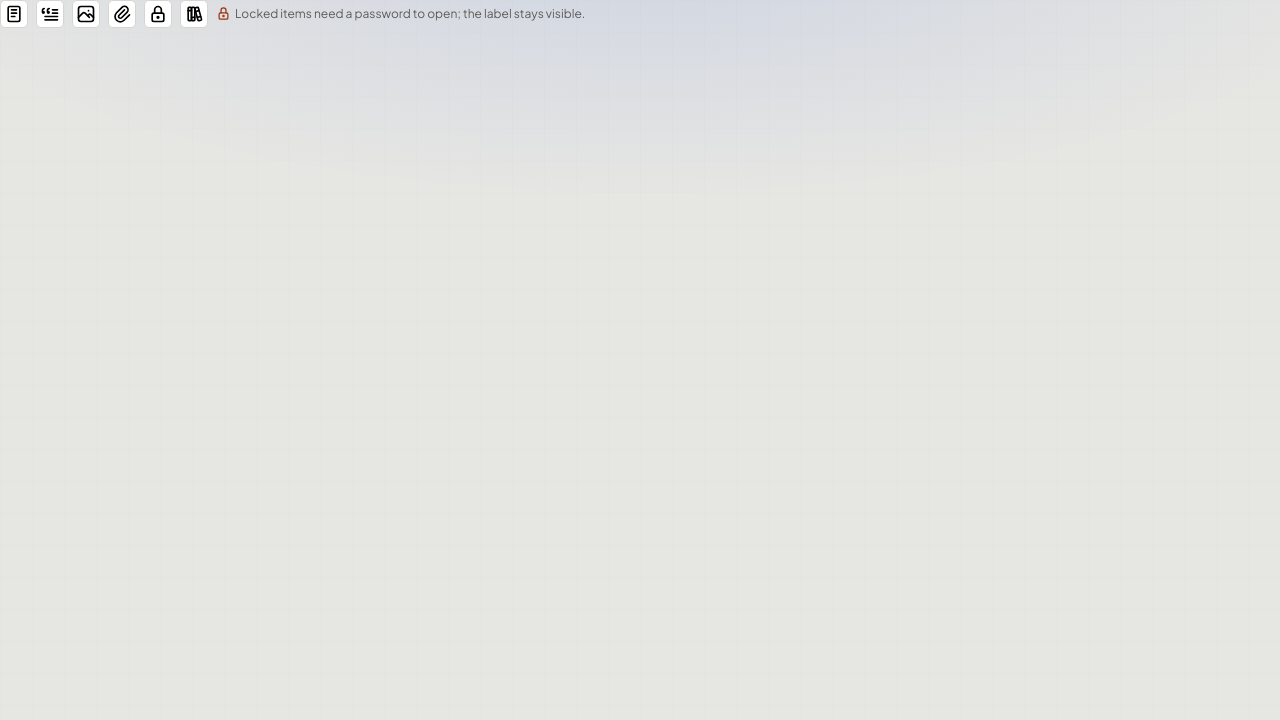
Test case: AddItemBar — the from-library sheet (PLAN.md §9, §16 Phase 5, D8) › opens the Phase 5 library sheet from "Send from library"
What coordinates should you click on to do the following:
click the button named "Send from library"
I would click on:
 (194, 14)
Its box is [180, 0, 208, 28].
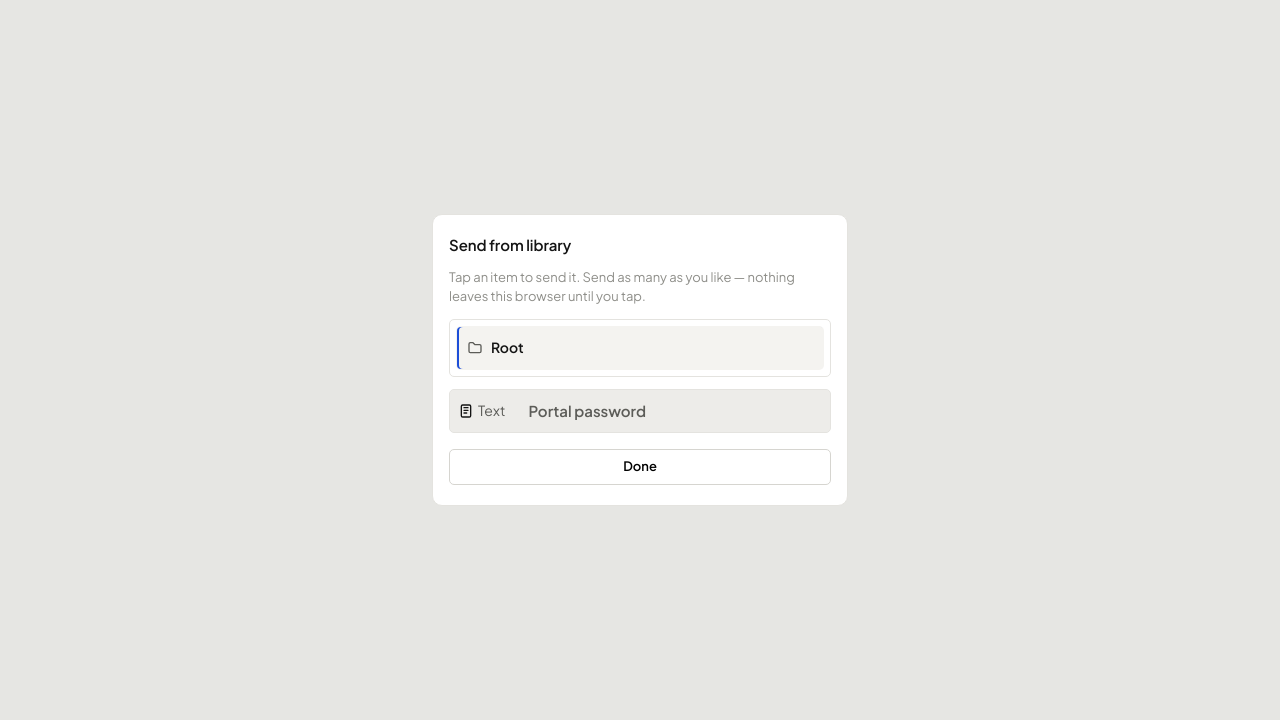
Expected: the dialog with class "library-modal--send" is shown
Expected: the text "Send from library" is shown, [449, 235, 571, 254]
